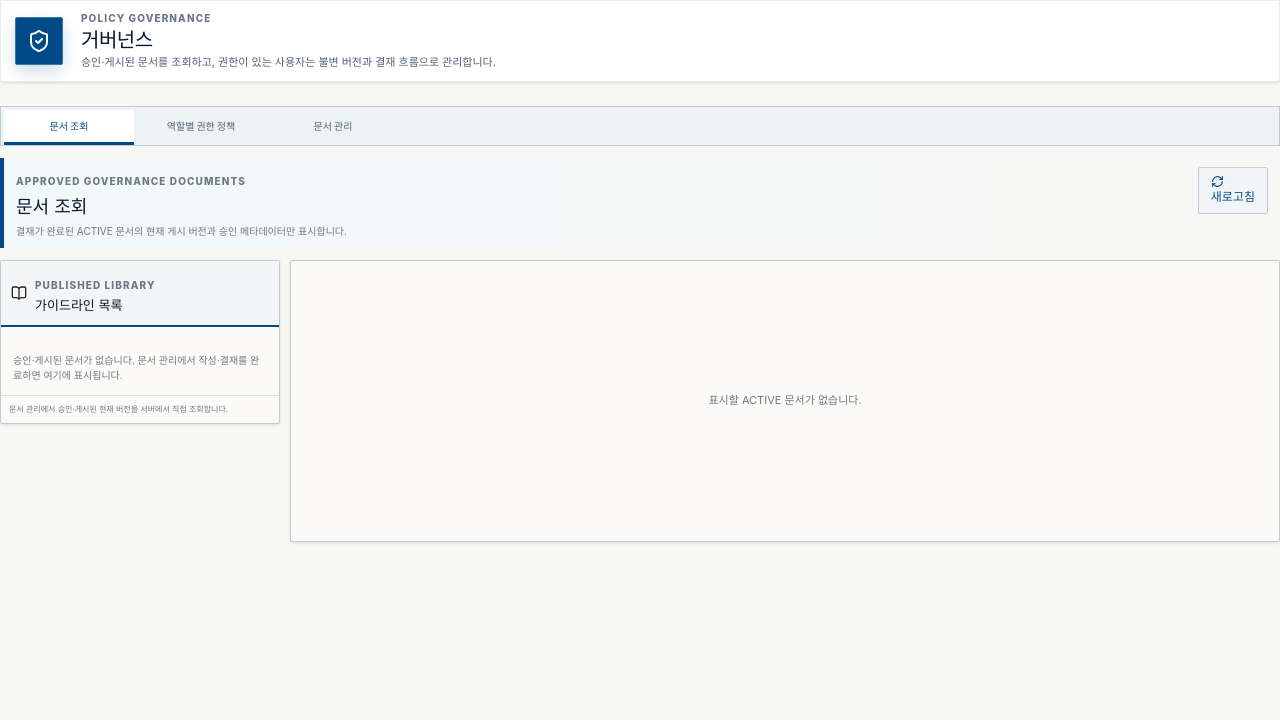
PolicyGovernancePage › renames both tabs and opens the separately authorized management workspace
Check: the tab "문서 조회" is shown, box [4,110,134,144]
Click the tab "문서 관리" at (333, 127), box [268,110,398,144]
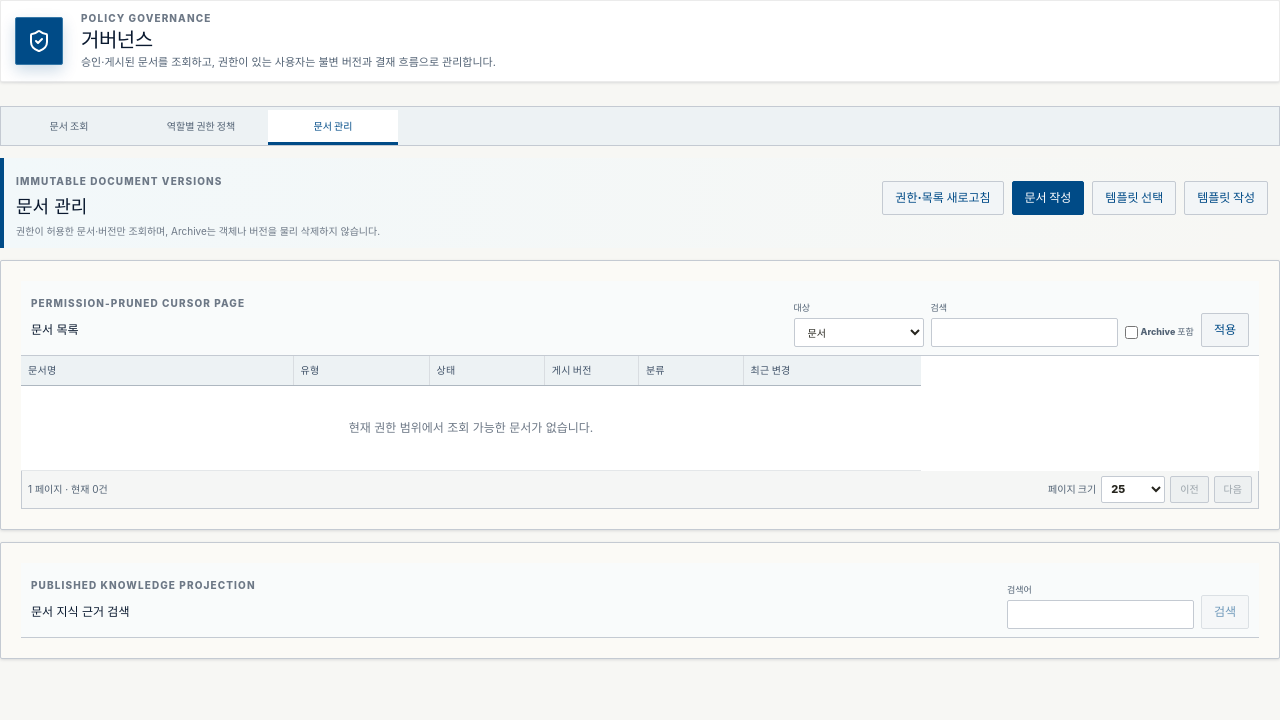
Check: the heading "문서 관리" is shown, box [16,196,87,216]
Check: the button "문서 작성" is shown, box [1012,180,1084,214]
